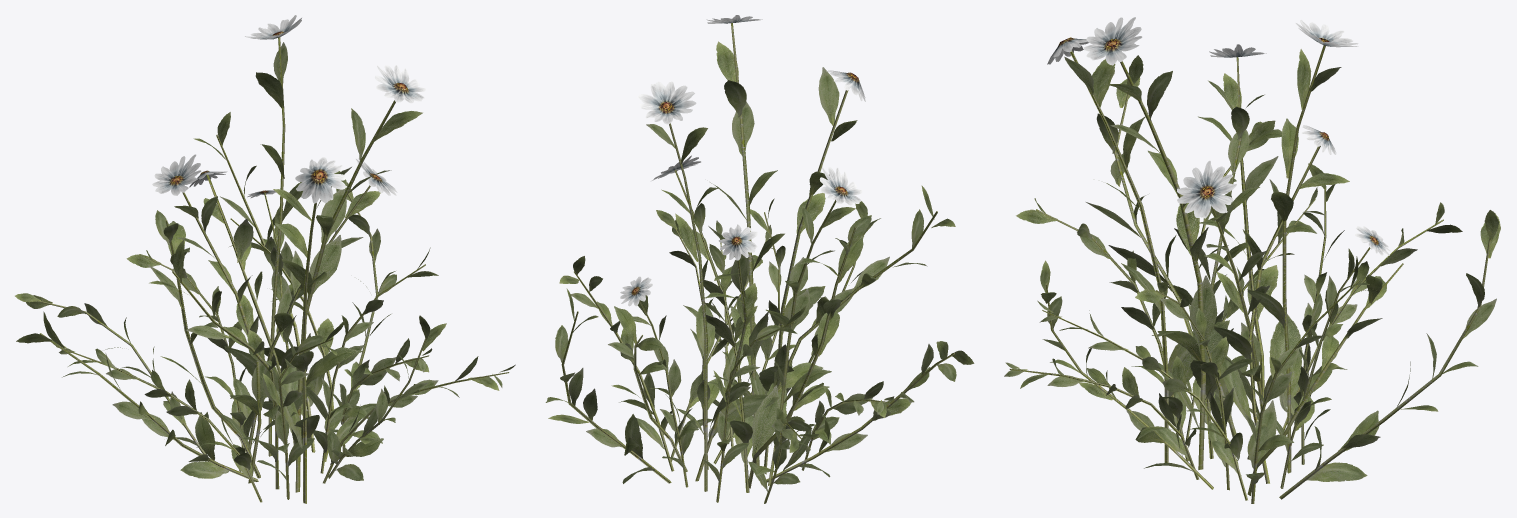
Rendered from sm_DaisyFlowers_01_01.fbx.
3 renders of one model, left to right at view 1: azimuth 30°, elevation 25°; view 2: azimuth 150°, elevation 25°; view 3: azimuth 270°, elevation 25°, orthographic. The views are drawn at different scales.
Visible parts, largest first — view 1: sm_DaisyFlowers_01_01; view 2: sm_DaisyFlowers_01_01; view 3: sm_DaisyFlowers_01_01.
Boxes of the visible parts, x1=… form: sm_DaisyFlowers_01_01: x1=15, y1=15, x2=515, y2=503; sm_DaisyFlowers_01_01: x1=545, y1=15, x2=974, y2=503; sm_DaisyFlowers_01_01: x1=1004, y1=17, x2=1500, y2=503.
Bounding box in the file's own units: 43.69 × 43.9 × 46.71.
